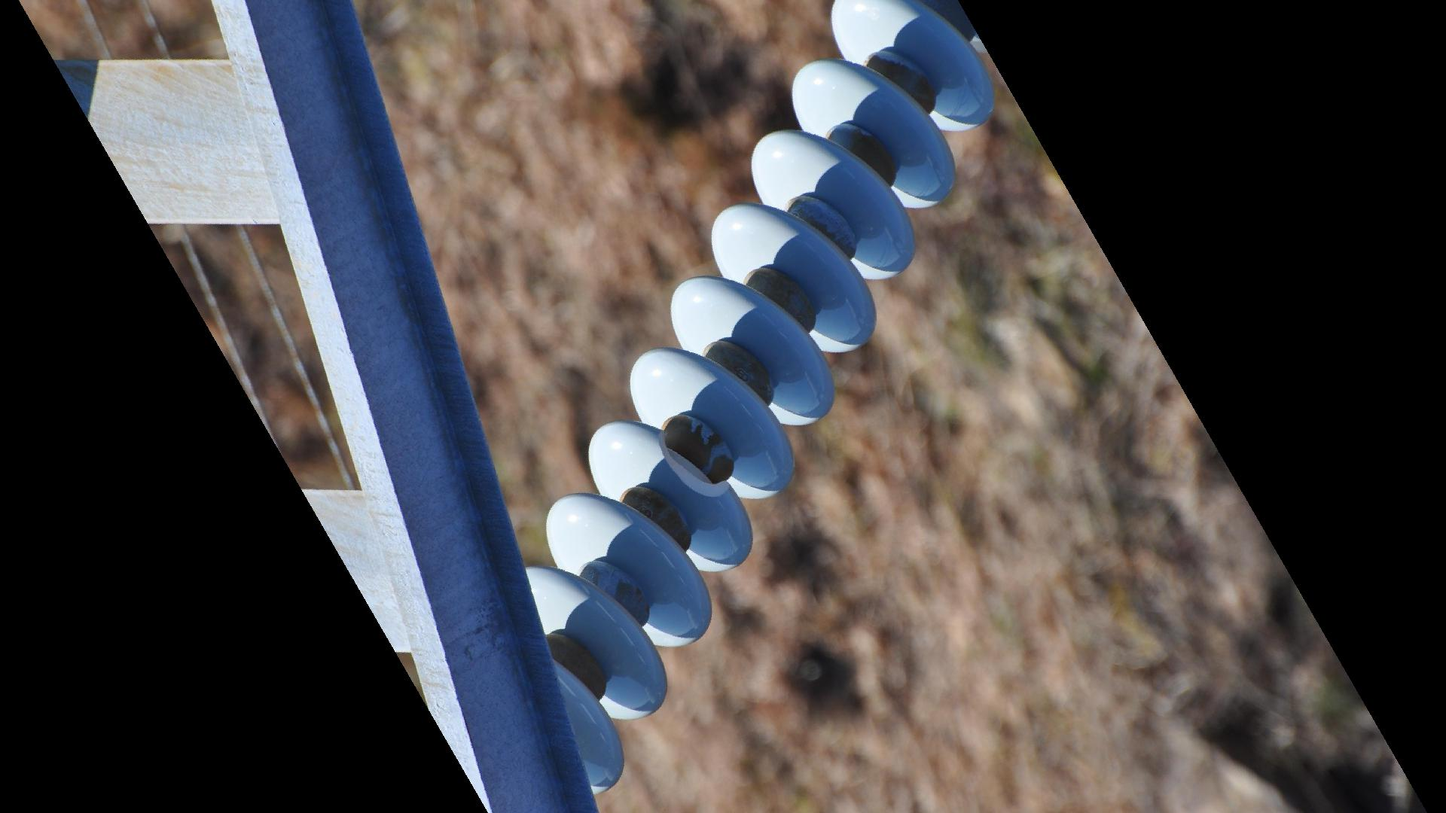insulator: (524, 1, 1005, 799)
insulator_breakage: (645, 426, 743, 517)
